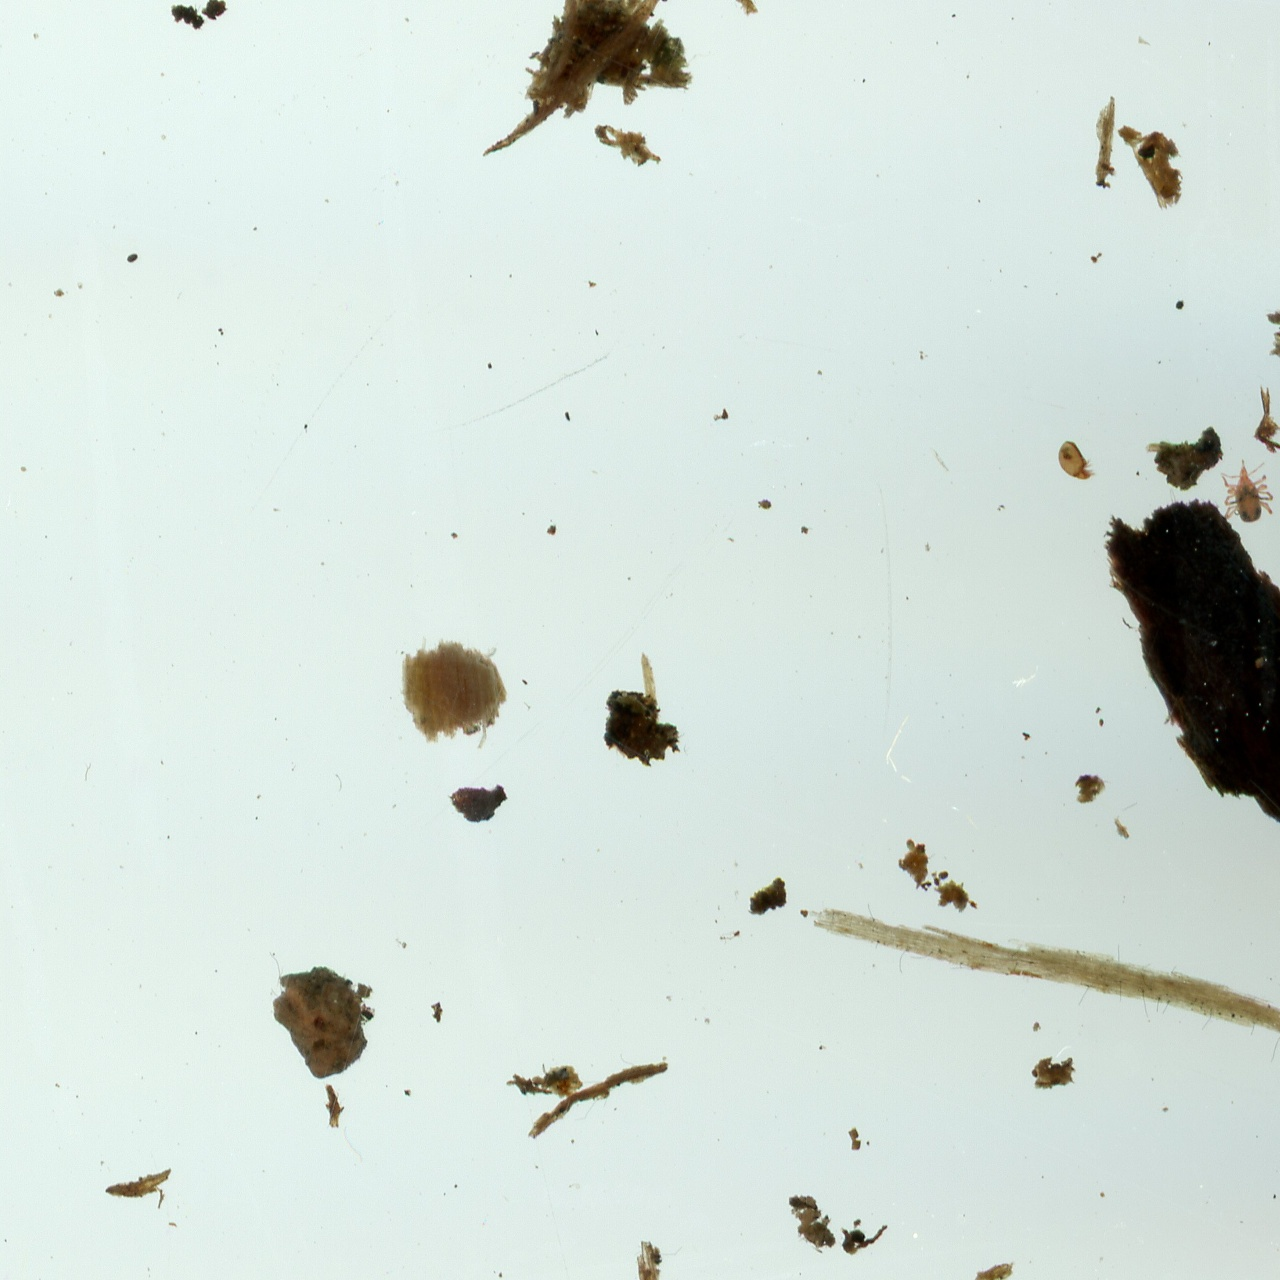arthropod: (1214, 452, 1280, 530)
